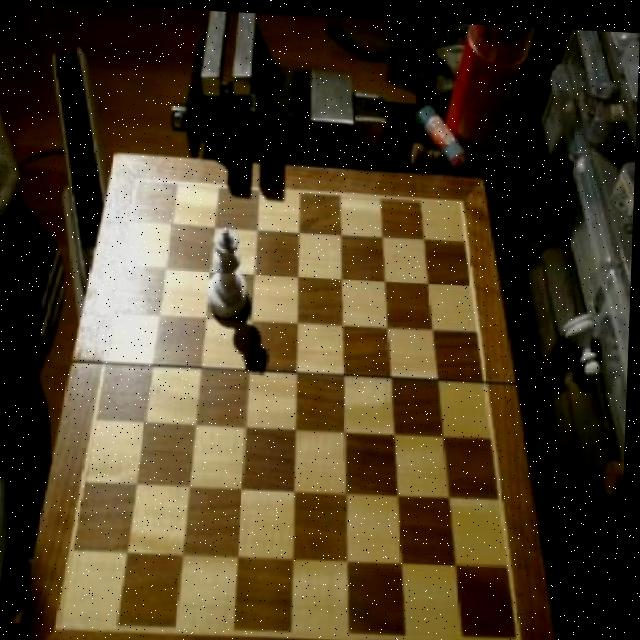white-pawn: (205, 219, 248, 322)
